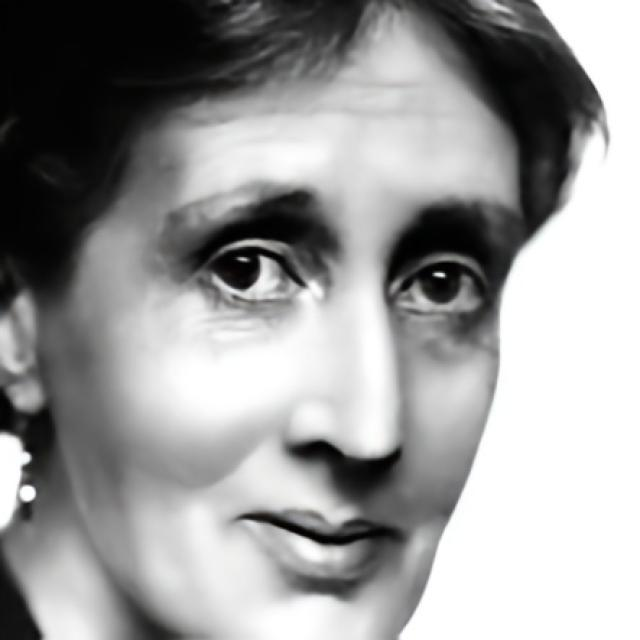content: (59, 2, 521, 640)
